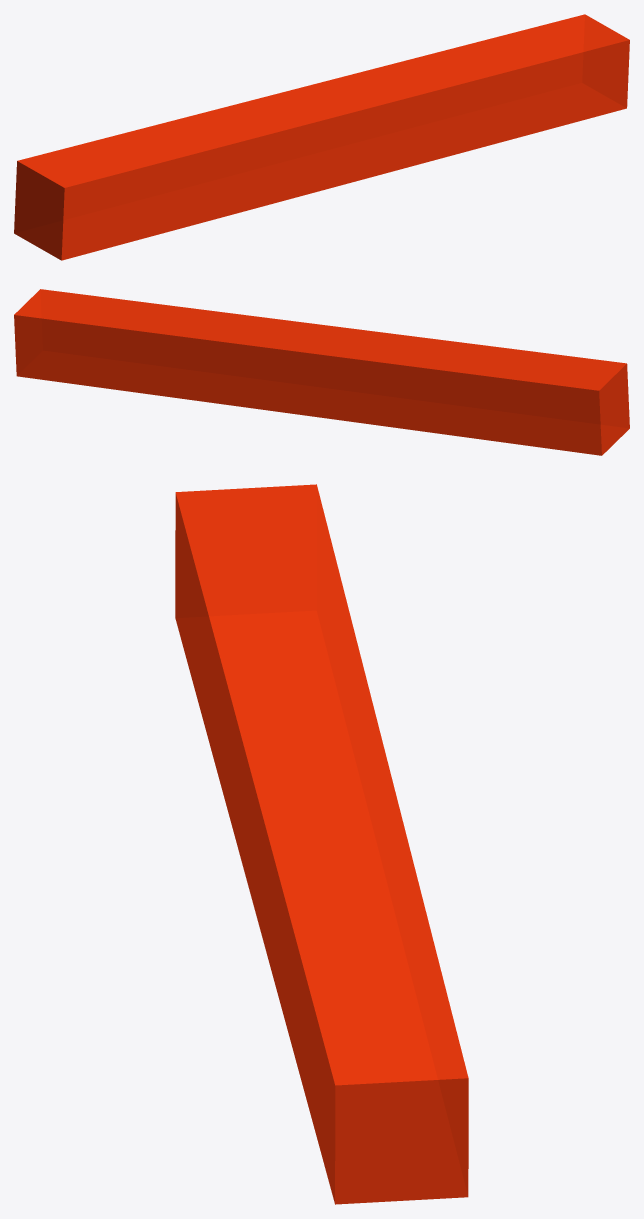
The model's file is Event_421127236_EErechit_10.fbx.
3 views of the same model, one above another, from view 1: azimuth 30°, elevation 25°; view 2: azimuth 150°, elevation 25°; view 3: azimuth 270°, elevation 25° (orthographic). The views are drawn at different scales.
Visible parts, largest first — view 1: Model; view 2: Model; view 3: Model.
Boxes of the visible parts, x1,y1,x2,y2 form: Model: [14, 14, 629, 260]; Model: [14, 289, 629, 455]; Model: [175, 484, 468, 1204].
Bounding box in the file's own units: 0.6949 × 0.1084 × 0.1584.
